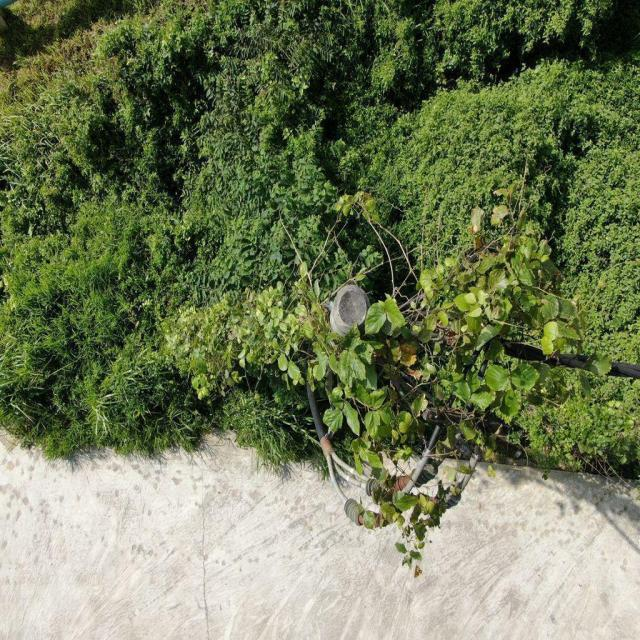critical vegetation: (164, 216, 578, 505)
